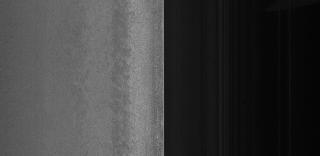silk spot: (102, 50, 140, 92)
